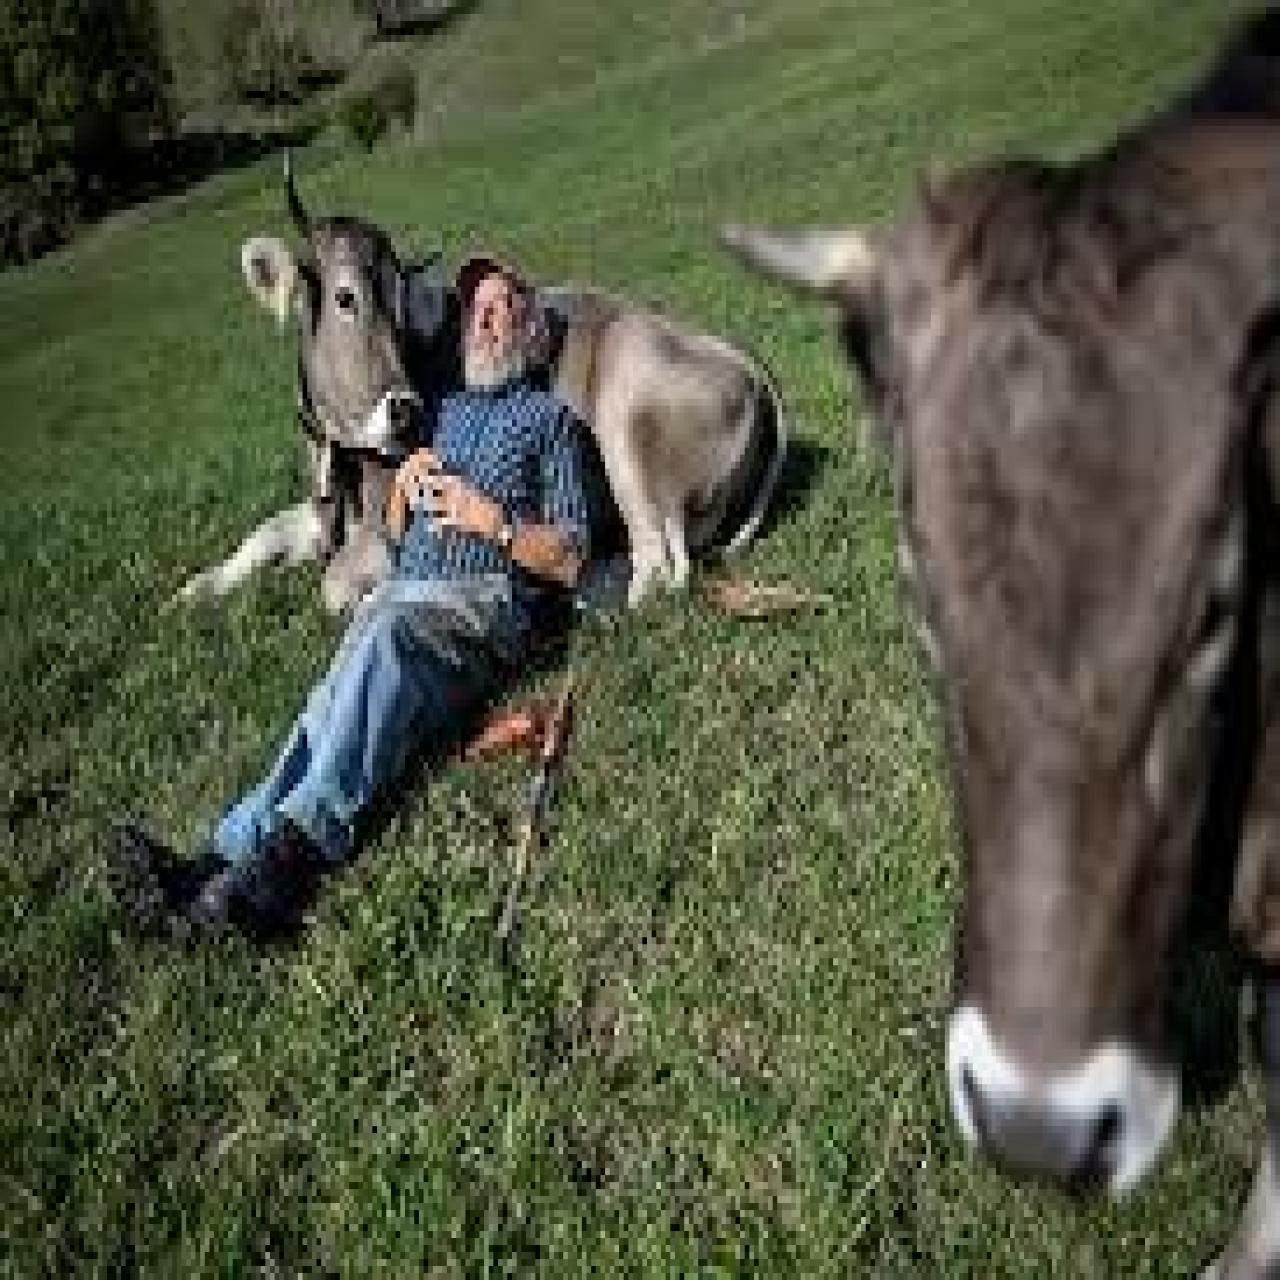cow: (810, 123, 1280, 1220), (149, 213, 796, 633)
